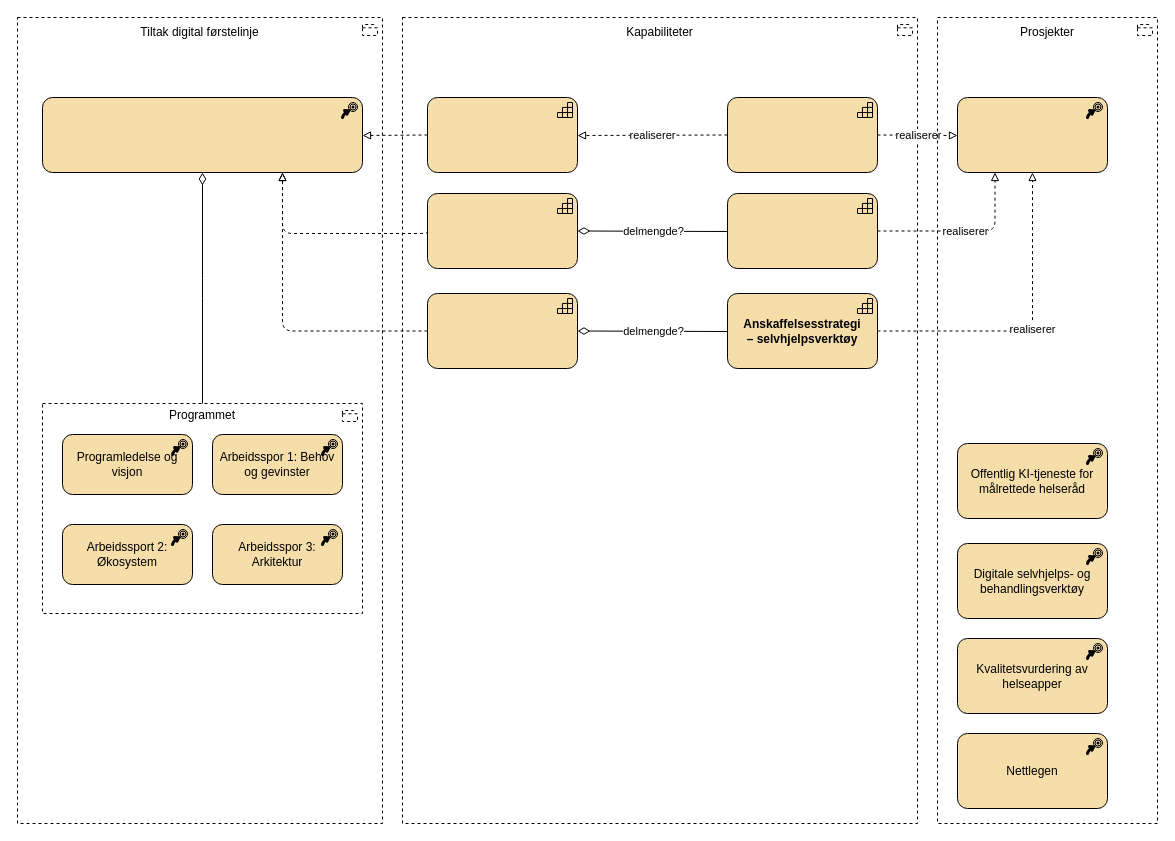
The diagram is 1175 pixels wide and 841 high, and some of its shapes have lost their labels. Here are the shapes that lost their labels. From the top down, the centre of each, then its label:
the point at 202,134: Satsing Digital Førstelinje
the point at 502,134: Digital veiviser inn til helsetjenestene
the point at 802,134: Nasjonal veiviser konsept 12c
the point at 1032,134: Digitale løsninger for psykisk helse/rus
the point at 502,230: Økosystem
the point at 802,230: Kommunikasjon digitale verktøy
the point at 502,330: Digitale selvhjelps og behandlingsverktøy
